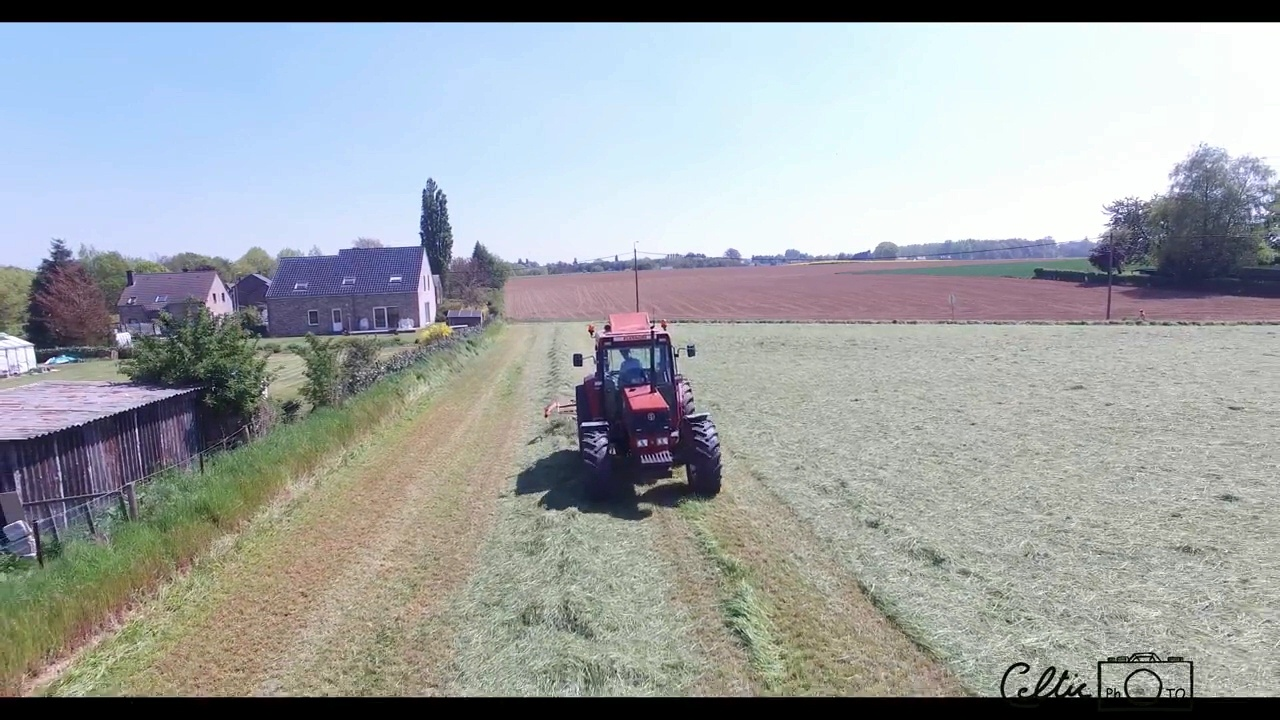traktor: (575, 303, 724, 502)
